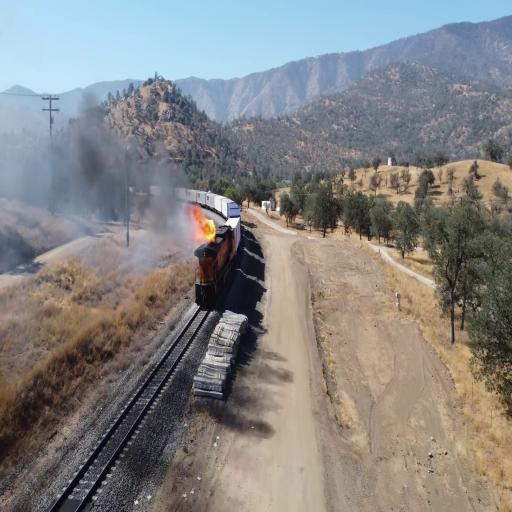fire: (189, 196, 218, 239)
smoke: (74, 112, 132, 201)
